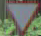Give way: (3, 0, 39, 35)
